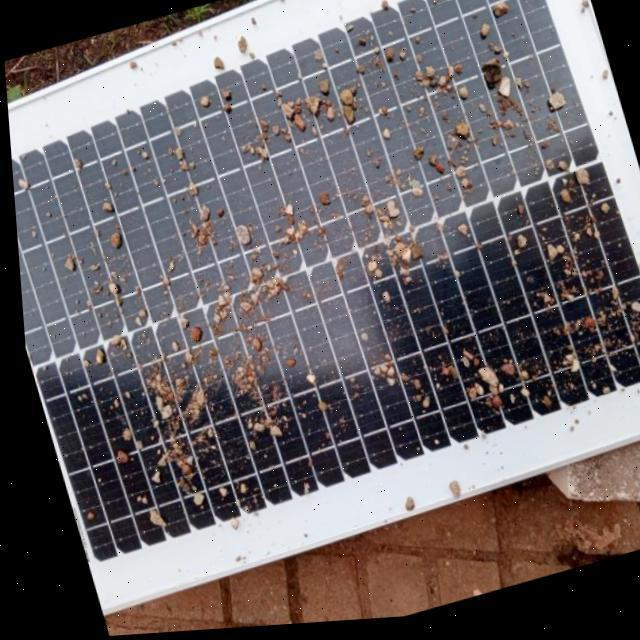Surface Contaminant: (8, 0, 640, 587)
